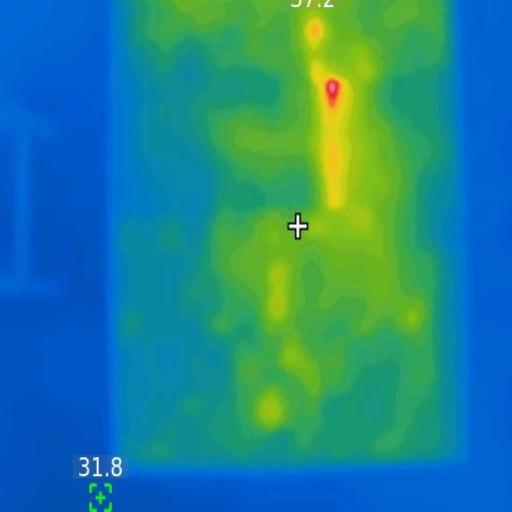hotspot: (325, 78, 340, 108)
